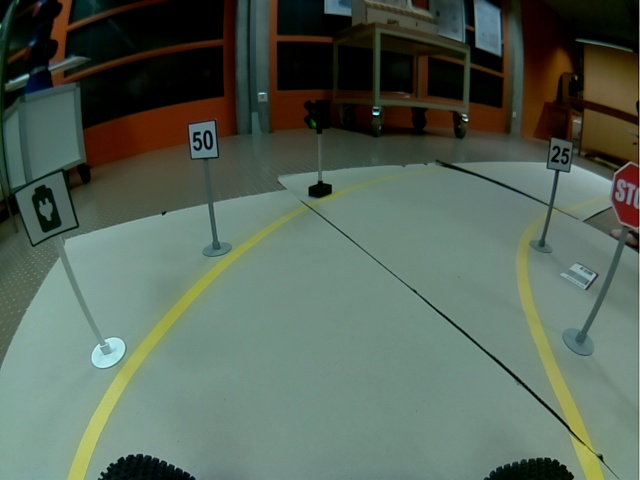battery: (13, 169, 79, 246)
speed25: (546, 136, 574, 173)
speed50: (187, 119, 219, 160)
stop: (611, 160, 640, 229)
trafficLightGreen: (304, 100, 331, 129)
